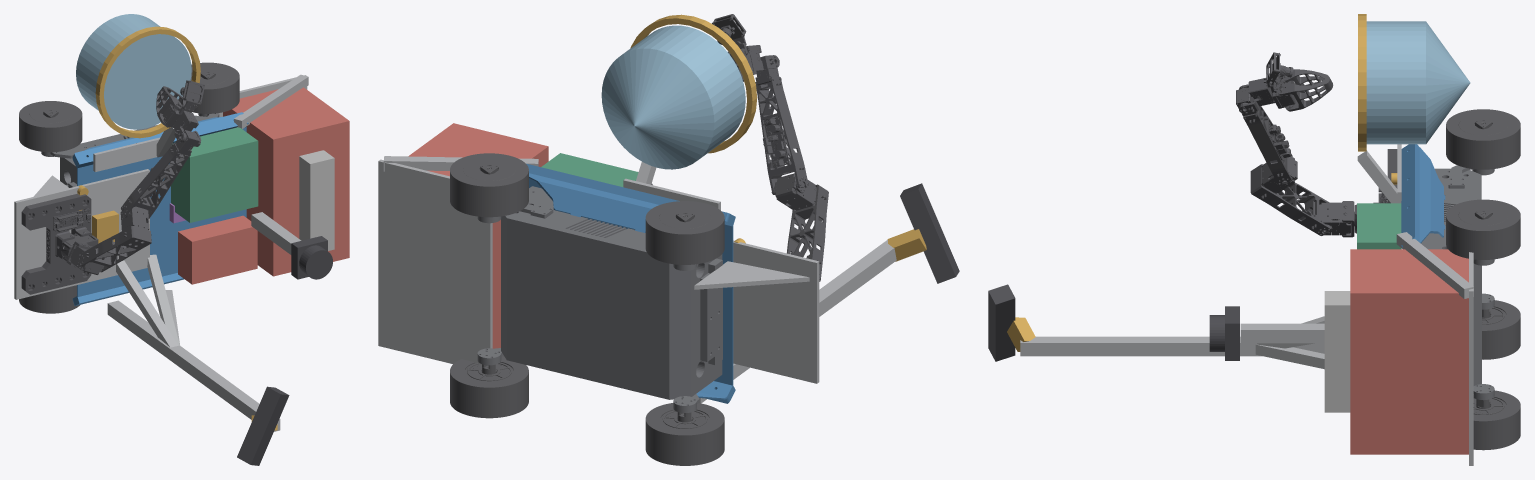
The model's file is assembly_bag_drop.glb.
3 renders of one model, left to right at view 1: azimuth 30°, elevation 25°; view 2: azimuth 150°, elevation 25°; view 3: azimuth 270°, elevation 25°, orthographic. The views are drawn at different scales.
Parts seen in each view (by area): view 1: mod/power_station(~Anker SOLIX C300 class, 24x16x14cm), mod/trash_bag(soft), mod/edge_compute_box(JetsonOrinNano|miniPC), wildbot/upper_blue_v1_1, mod/arm_front_plate_6mmAl, omx_f/link0, mod/power_distribution_box, mod/camera_mast_2020, mod/outlet_strip(3x AC, on top of power station), wildbot/new_wheel_v1__2___1__1, omx_f/link3, omx_f/link2 (+19 smaller); view 2: wildbot/base_link, mod/rear_rack_floor, mod/trash_bag(soft), mod/arm_front_plate_6mmAl, wildbot/upper_blue_v1_1, wildbot/new_wheel_v1__2___1__1, wildbot/new_wheel_v1__1__1, wildbot/new_wheel_v1__2__1, mod/power_station(~Anker SOLIX C300 class, 24x16x14cm), wildbot/new_wheel_v1_1, omx_f/link3, omx_f/link2 (+9 smaller); view 3: mod/power_station(~Anker SOLIX C300 class, 24x16x14cm), mod/trash_bag(soft), mod/camera_mast_2020, wildbot/new_wheel_v1__2___1__1, wildbot/new_wheel_v1__1__1, wildbot/upper_blue_v1_1, mod/outlet_strip(3x AC, on top of power station), omx_f/link2, wildbot/base_link, wildbot/new_wheel_v1_1, omx_f/link3, mod/edge_compute_box(JetsonOrinNano|miniPC) (+16 smaller).
Part boxes in pixels (x1,y1,x2,y2): mod/power_station(~Anker SOLIX C300 class, 24x16x14cm): (223, 87, 349, 276); mod/trash_bag(soft): (76, 14, 191, 129); mod/edge_compute_box(JetsonOrinNano|miniPC): (171, 127, 258, 222); wildbot/upper_blue_v1_1: (72, 112, 248, 305); mod/arm_front_plate_6mmAl: (14, 169, 149, 299); omx_f/link0: (21, 193, 98, 294); mod/power_distribution_box: (178, 215, 257, 284); mod/camera_mast_2020: (107, 300, 280, 431); mod/outlet_strip(3x AC, on top of power station): (299, 150, 334, 250); wildbot/new_wheel_v1__2___1__1: (19, 101, 82, 152); omx_f/link3: (121, 130, 199, 218); omx_f/link2: (78, 206, 151, 272); wildbot/base_link: (501, 186, 722, 399); mod/rear_rack_floor: (378, 159, 492, 364); mod/trash_bag(soft): (601, 25, 745, 169); mod/arm_front_plate_6mmAl: (733, 240, 819, 383); wildbot/upper_blue_v1_1: (526, 163, 735, 403); wildbot/new_wheel_v1__2___1__1: (645, 201, 724, 264); wildbot/new_wheel_v1__1__1: (450, 153, 528, 217); wildbot/new_wheel_v1__2__1: (645, 403, 724, 465); mod/power_station(~Anker SOLIX C300 class, 24x16x14cm): (408, 123, 548, 348); wildbot/new_wheel_v1_1: (450, 356, 528, 418); omx_f/link3: (755, 55, 808, 195); omx_f/link2: (774, 173, 828, 281); mod/power_station(~Anker SOLIX C300 class, 24x16x14cm): (1350, 249, 1468, 454); mod/trash_bag(soft): (1366, 21, 1470, 144); mod/camera_mast_2020: (1020, 336, 1324, 356); wildbot/new_wheel_v1__2___1__1: (1446, 109, 1520, 169); wildbot/new_wheel_v1__1__1: (1446, 199, 1520, 259); wildbot/upper_blue_v1_1: (1401, 144, 1445, 247); mod/outlet_strip(3x AC, on top of power station): (1324, 291, 1350, 412); omx_f/link2: (1250, 156, 1332, 235); wildbot/base_link: (1421, 168, 1481, 385); wildbot/new_wheel_v1_1: (1473, 390, 1520, 450); omx_f/link3: (1236, 87, 1292, 185); mod/edge_compute_box(JetsonOrinNano|miniPC): (1357, 203, 1401, 249).
Bounding box in the file's own units: 0.59 × 0.5463 × 0.718.
